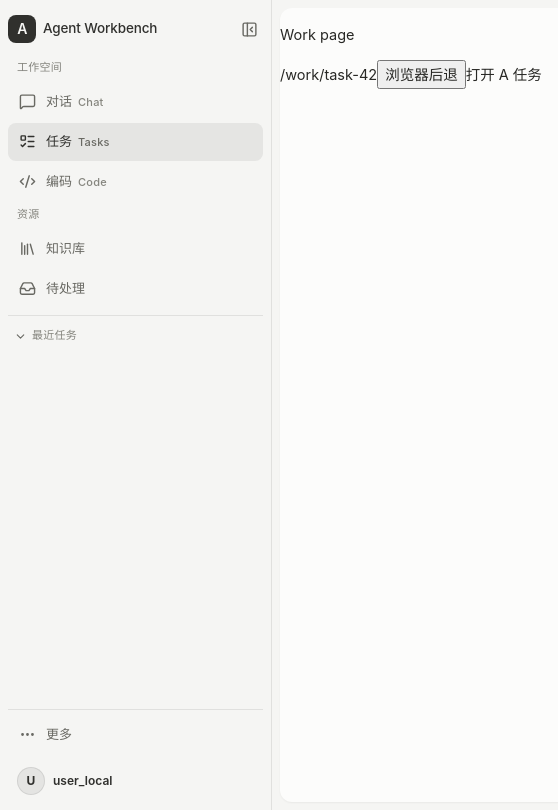
Test: AppShell rail › returns from /work/task-42 to the last open item
Click the link "编码 Code". click: x=63, y=182
box: [18,173,107,190]
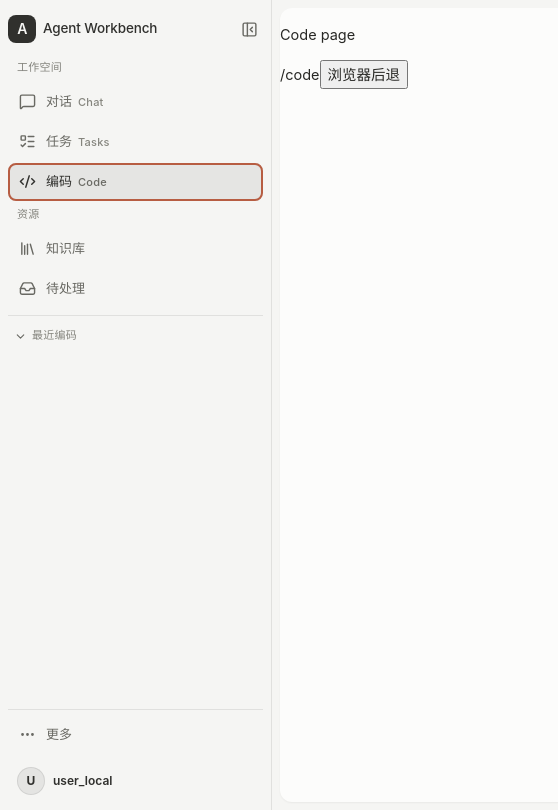
Click the link "任务 Tasks". click: x=64, y=142
box: [18,133,110,150]
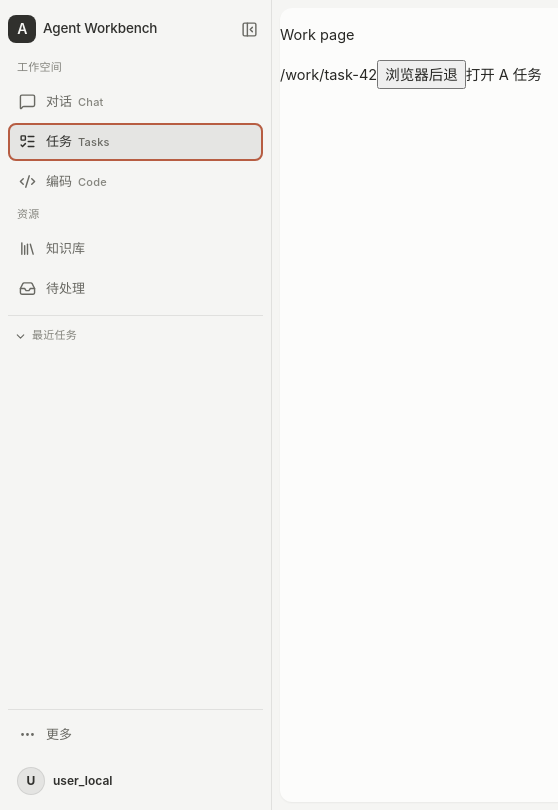
Check: the text named "当前路径" reads "/work/task-42", box [280,66,377,83]
